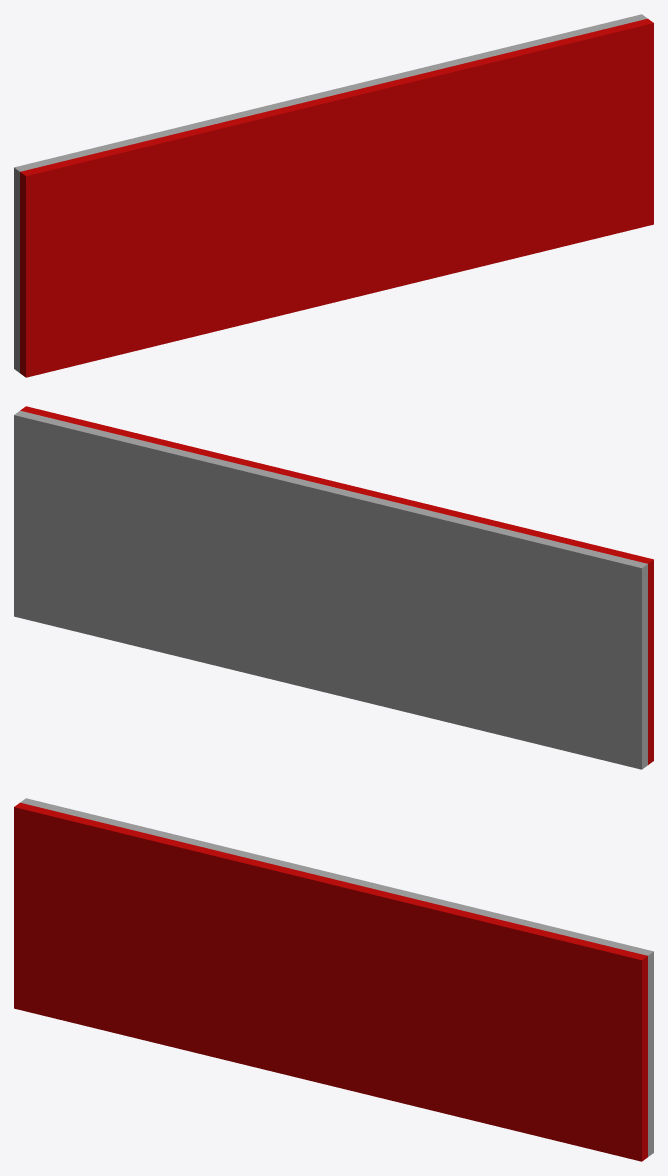
File: Stairs_Wall_01_Snaps014.fbx
3 views of the same model, one above another, from view 1: azimuth 30°, elevation 25°; view 2: azimuth 150°, elevation 25°; view 3: azimuth 330°, elevation 25° (orthographic).
Visible parts, largest first — view 1: Stairs_Wall_01_LOD00; view 2: Stairs_Wall_01_LOD00; view 3: Stairs_Wall_01_LOD00.
Part boxes in pixels (x1,y1,x2,y2): Stairs_Wall_01_LOD00: [14, 14, 653, 377]; Stairs_Wall_01_LOD00: [14, 406, 653, 769]; Stairs_Wall_01_LOD00: [14, 798, 653, 1161].
Size of what is drawn, in the model's own units: 600 by 184 by 20.
